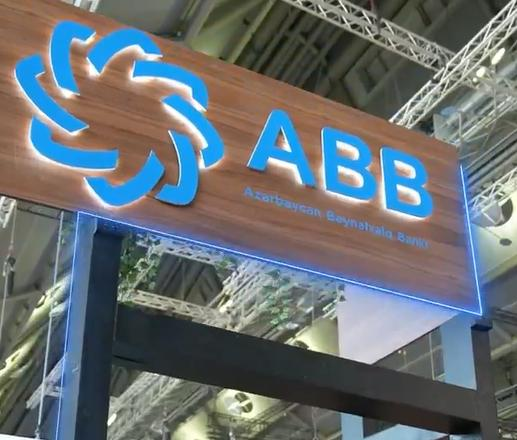ABB: (12, 18, 225, 212)
